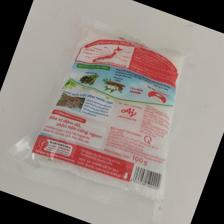Ajinomoto: (30, 27, 190, 201)
